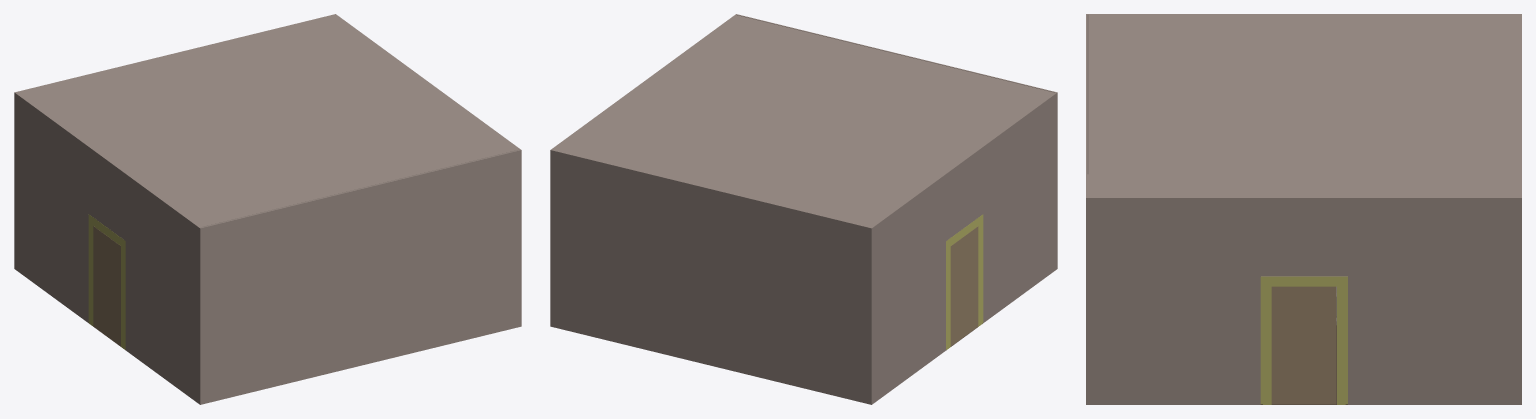
The model's file is Room06_Bedroom.fbx.
3 renders of one model, left to right at view 1: azimuth 30°, elevation 25°; view 2: azimuth 150°, elevation 25°; view 3: azimuth 270°, elevation 25°, orthographic. The views are drawn at different scales.
Visible parts, largest first — view 1: Roof, WallPosZ, WallSlicedPosX, DoorPosX, DoorFramePosX, WallNegZ; view 2: Roof, WallNegZ, WallSlicedPosX, DoorPosX, DoorFramePosX, WallPosZ, WallSlicedNegX; view 3: Roof, WallSlicedNegX, DoorNegX, DoorFrameNegX, WallSlicedPosX, WallPosZ, WallNegZ.
Boxes of the visible parts, x1=… form: Roof: x1=17, y1=15, x2=519, y2=227; WallPosZ: x1=199, y1=150, x2=521, y2=404; WallSlicedPosX: x1=14, y1=92, x2=200, y2=404; DoorPosX: x1=93, y1=226, x2=120, y2=346; DoorFramePosX: x1=88, y1=214, x2=125, y2=349; WallNegZ: x1=14, y1=14, x2=335, y2=265; Roof: x1=552, y1=15, x2=1054, y2=227; WallNegZ: x1=550, y1=150, x2=872, y2=404; WallSlicedPosX: x1=869, y1=92, x2=1057, y2=404; DoorPosX: x1=950, y1=226, x2=978, y2=346; DoorFramePosX: x1=946, y1=214, x2=983, y2=349; WallPosZ: x1=736, y1=14, x2=1057, y2=268; WallSlicedNegX: x1=550, y1=14, x2=736, y2=326; Roof: x1=1088, y1=14, x2=1520, y2=197; WallSlicedNegX: x1=1086, y1=197, x2=1521, y2=404; DoorNegX: x1=1271, y1=286, x2=1336, y2=404; DoorFrameNegX: x1=1260, y1=276, x2=1347, y2=404; WallSlicedPosX: x1=1086, y1=14, x2=1521, y2=174; WallPosZ: x1=1086, y1=14, x2=1088, y2=404; WallNegZ: x1=1519, y1=14, x2=1521, y2=403.
Bounding box in the file's own units: 100 × 52.5 × 100.
